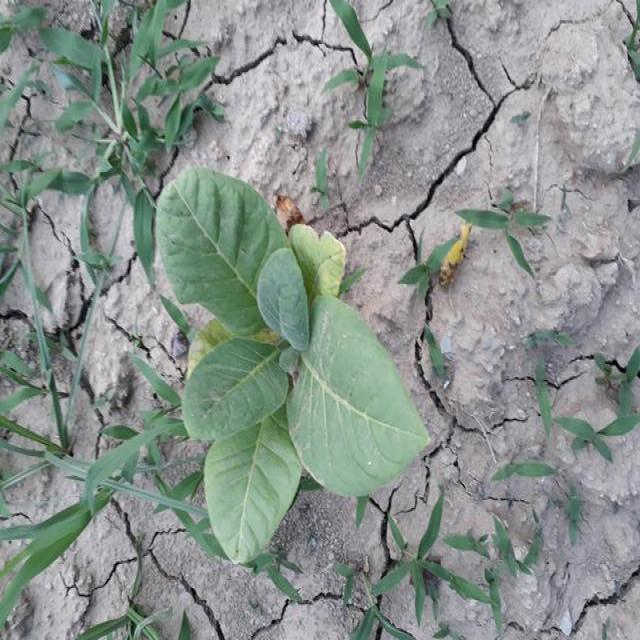crop: (159, 162, 435, 553)
